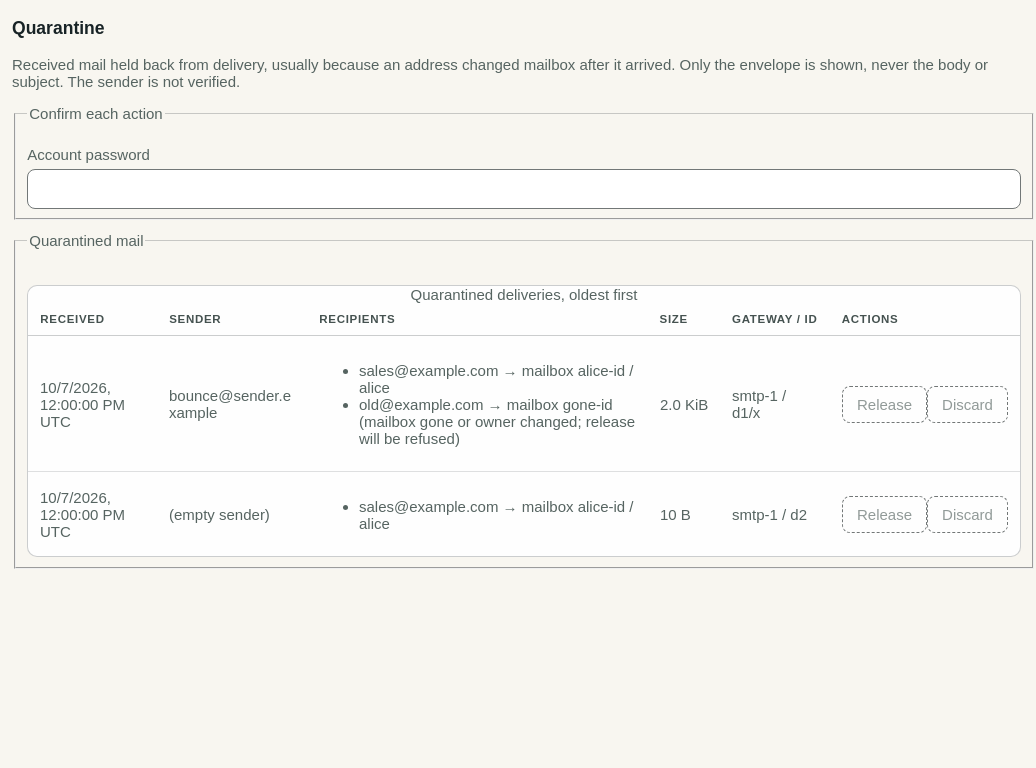
Test: locks when a success answer names another delivery
Expected: the text "bounce@sender.example" is shown, [157,336,307,472]
Type "account-secret" into the password field labelled "Account password" at (524, 189), box [27,169,1021,209]
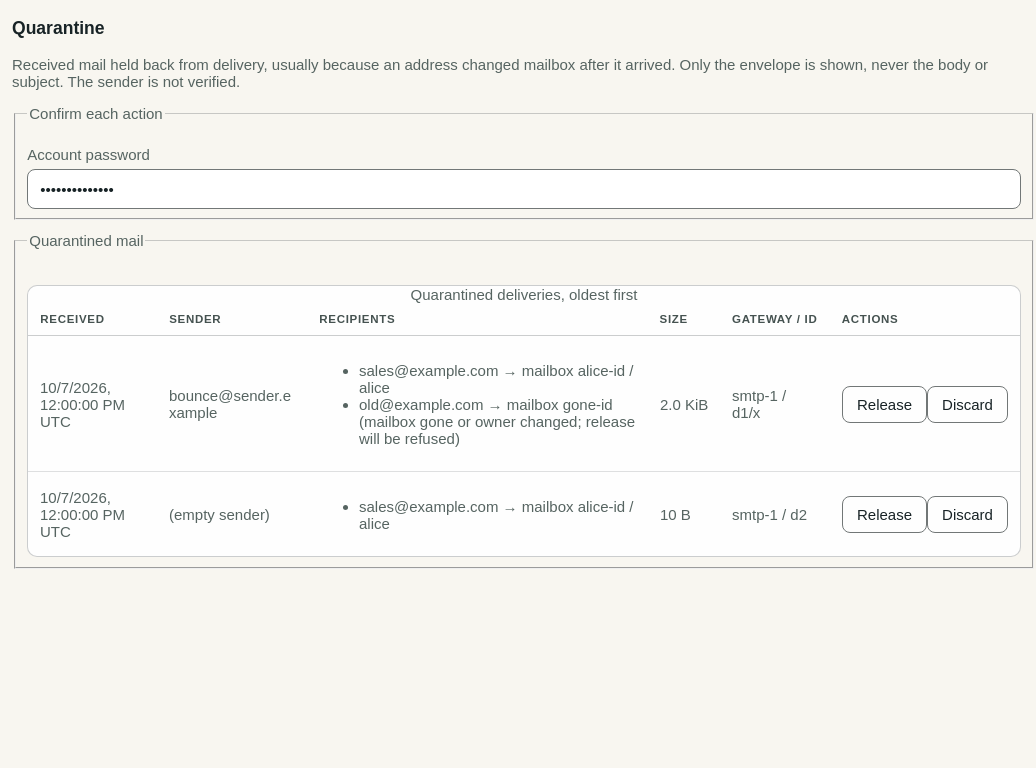
Click the button with aria-label "Release smtp-1 / d1/x" at (884, 404), box [842,386,927,422]
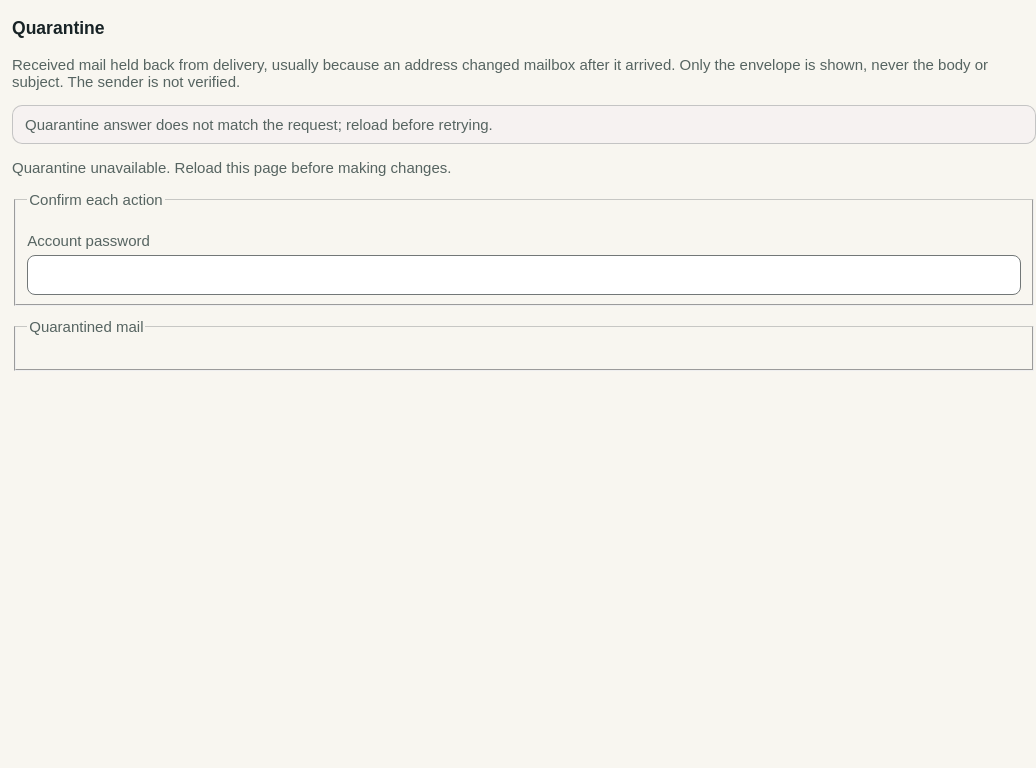
Expected: the message shows "does not match the request", [25,116,493,133]
Expected: the element "Confirm each action" is disabled, [14,191,1034,306]
